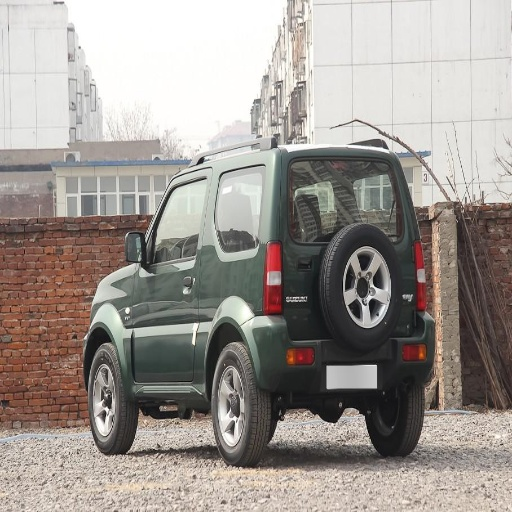back_glass: (312, 158, 389, 178)
trunk: (265, 186, 337, 306)
